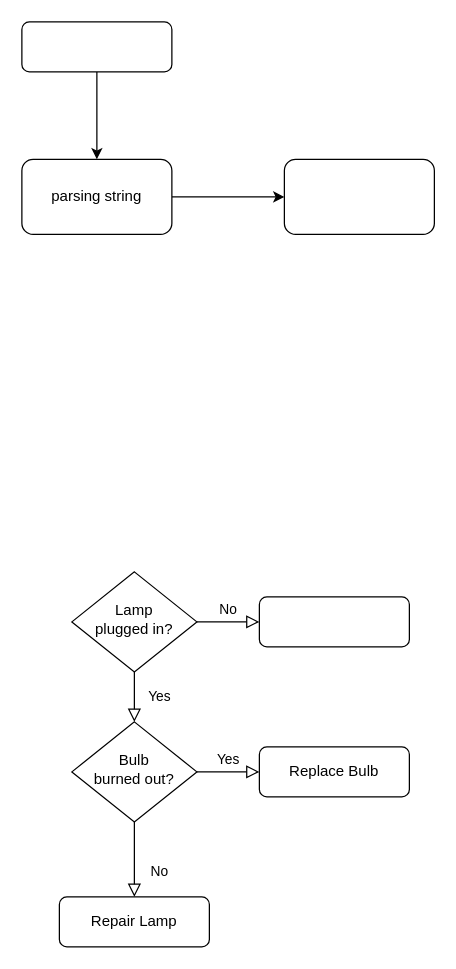
Some shapes in this 456 by 969 pixel diagram are drawn without their labels. The centre of each missing label's shape, as x and y in pixels:
"Capture sensors" goes at point 96,46.
"Plug in lamp" goes at point 333,621.
"SendPost" goes at point 358,196.
